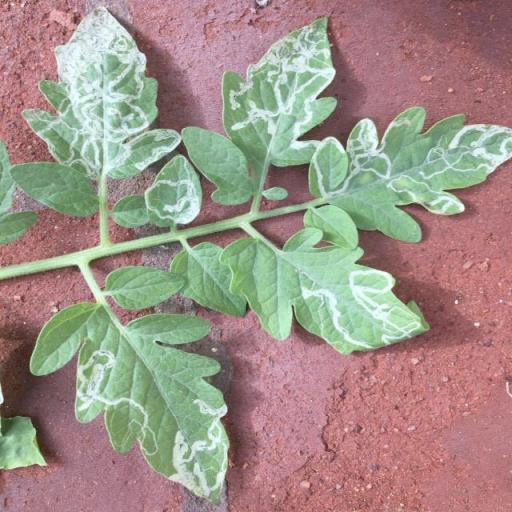disease_tomato: (29, 302, 231, 504), (304, 106, 512, 244), (23, 6, 184, 182), (223, 228, 427, 358), (222, 14, 338, 170), (143, 152, 205, 228)
